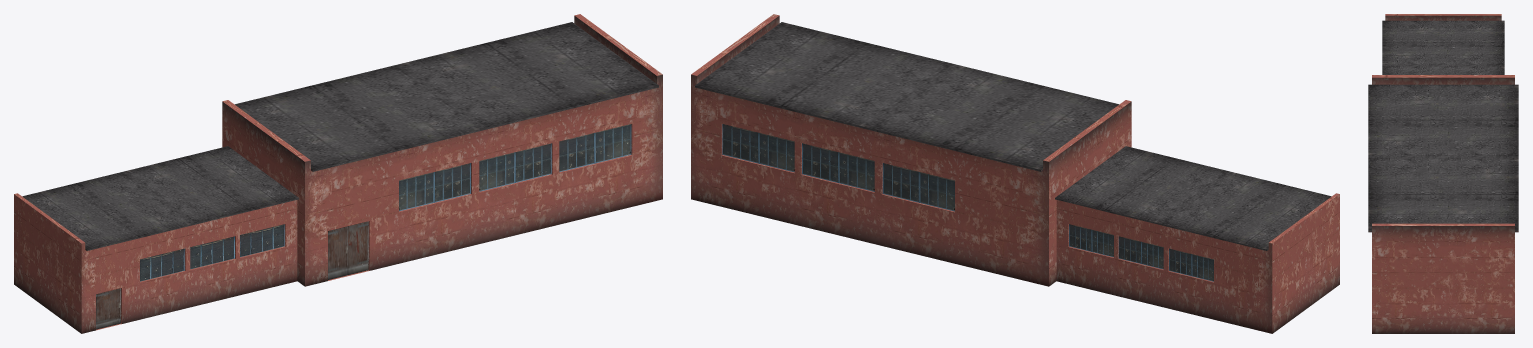
File: r254_angar_krasniy.FBX
3 views of the same model, side by side, from view 1: azimuth 30°, elevation 25°; view 2: azimuth 150°, elevation 25°; view 3: azimuth 270°, elevation 25° (orthographic). The views are drawn at different scales.
Parts seen in each view (by area): view 1: r254_angar_krasniy; view 2: r254_angar_krasniy; view 3: r254_angar_krasniy.
Part boxes in pixels (x1,y1,x2,y2): r254_angar_krasniy: (14,14,662,333); r254_angar_krasniy: (691,14,1339,333); r254_angar_krasniy: (1368,14,1518,333).
Size of the model in its own units: 48.09 by 12.6 by 10.01.
